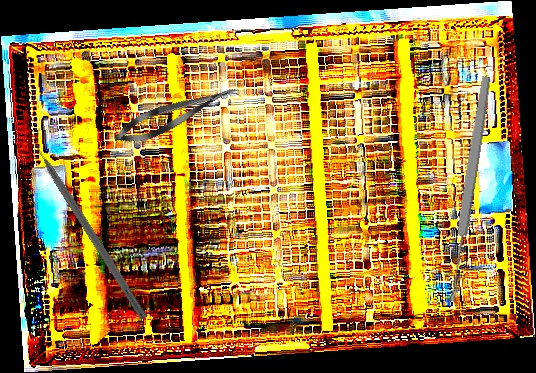Chopper: (25, 125, 158, 321)
Micro Scissor: (109, 77, 244, 151)
Surgical Spoon: (443, 75, 494, 303)
